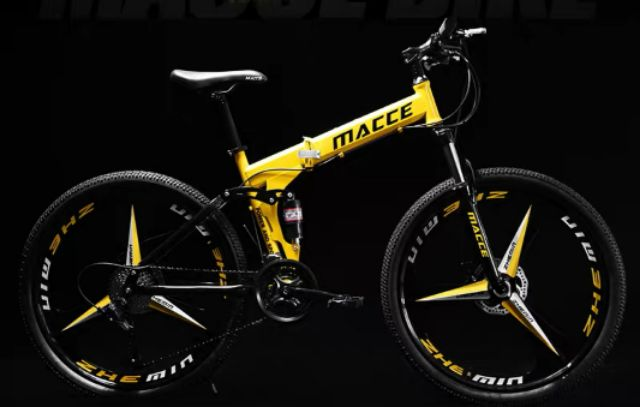bicycle: (19, 15, 633, 401)
